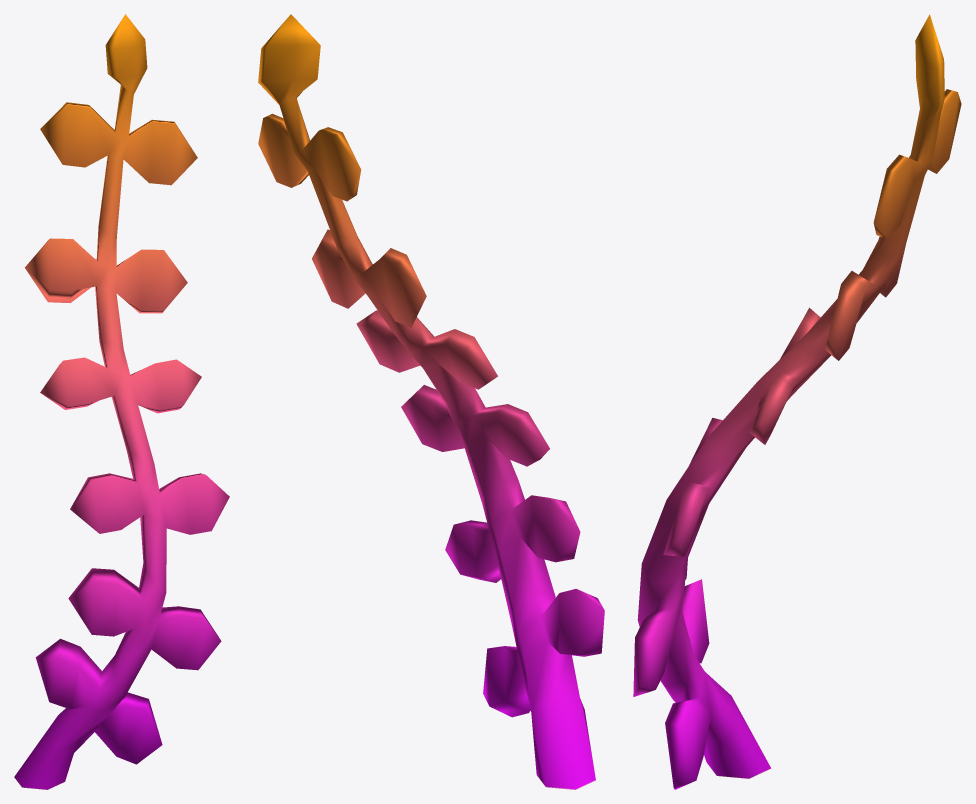
Rendered from MOD_Coral5.fbx.
3 renders of one model, left to right at view 1: azimuth 30°, elevation 25°; view 2: azimuth 150°, elevation 25°; view 3: azimuth 270°, elevation 25°, orthographic. The views are drawn at different scales.
Visible parts, largest first — view 1: MOD_Coral5; view 2: MOD_Coral5; view 3: MOD_Coral5.
Part boxes in pixels (left/top/right/bottom): MOD_Coral5: left=14, top=14, right=229, bottom=789; MOD_Coral5: left=258, top=14, right=604, bottom=789; MOD_Coral5: left=633, top=14, right=961, bottom=789.
Size of the model in its own units: 1.2 by 3.31 by 1.16.
Materials: 1 (1 with a texture image).
